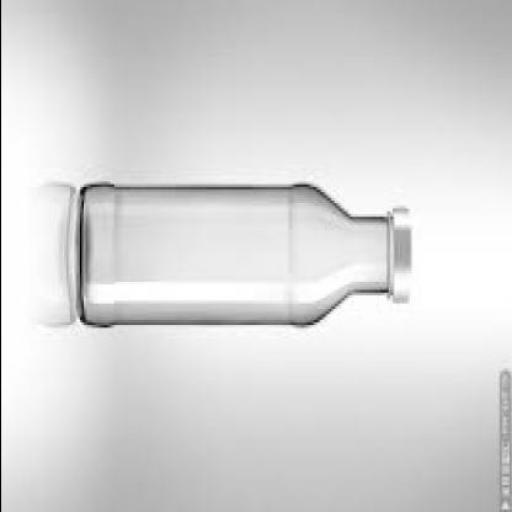glass: (78, 187, 393, 334)
metal: (390, 208, 414, 306)
